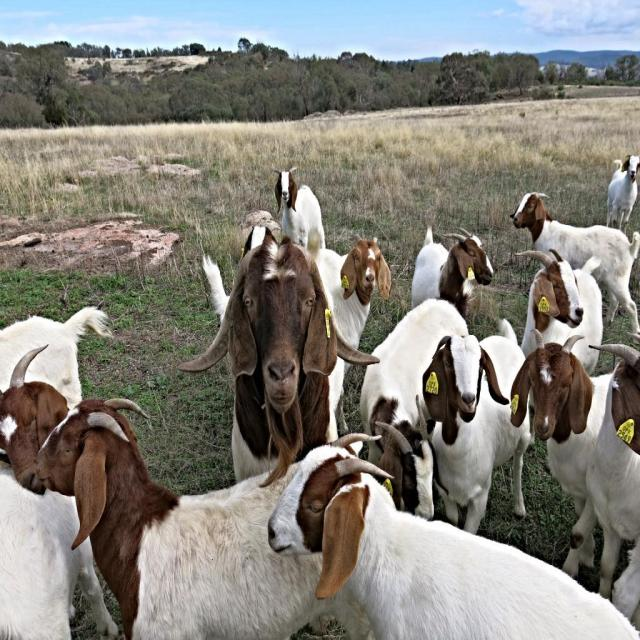Goat: (0, 155, 640, 639)
